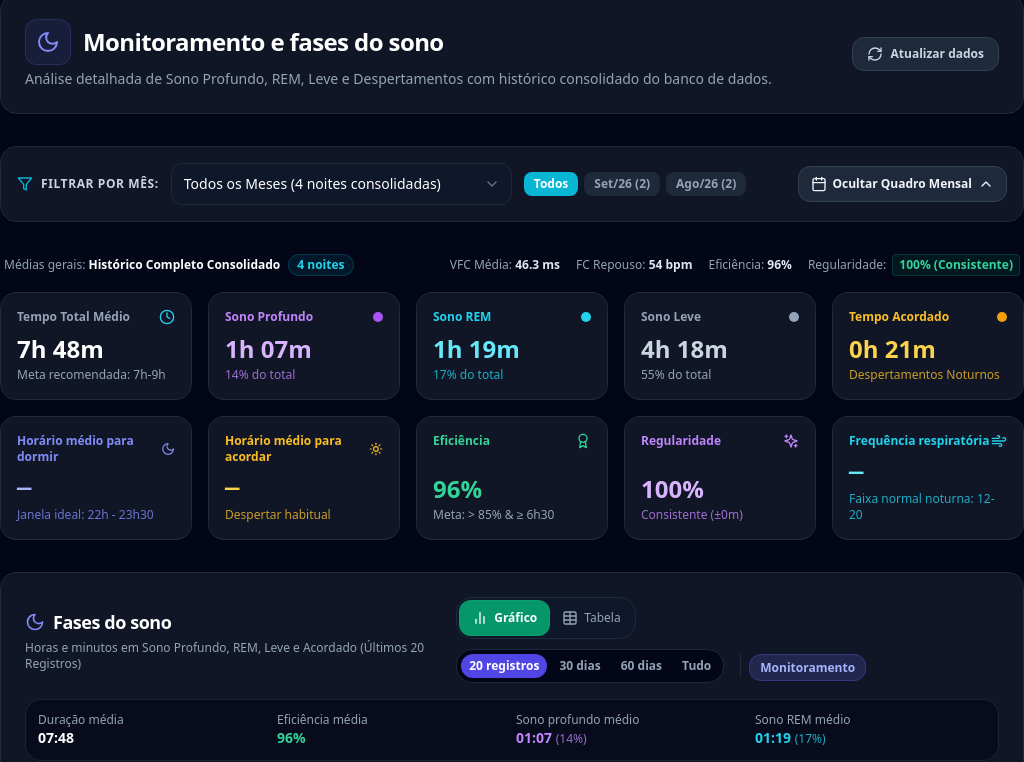
Test case: SleepView › filters by month using the select dropdown and recalculates monthly KPIs
Select "Setembro de 2026 (2 noites • média 8h 20m)" in the dropdown named "Selecionar Mês" at [341, 184], box [171, 163, 512, 205]
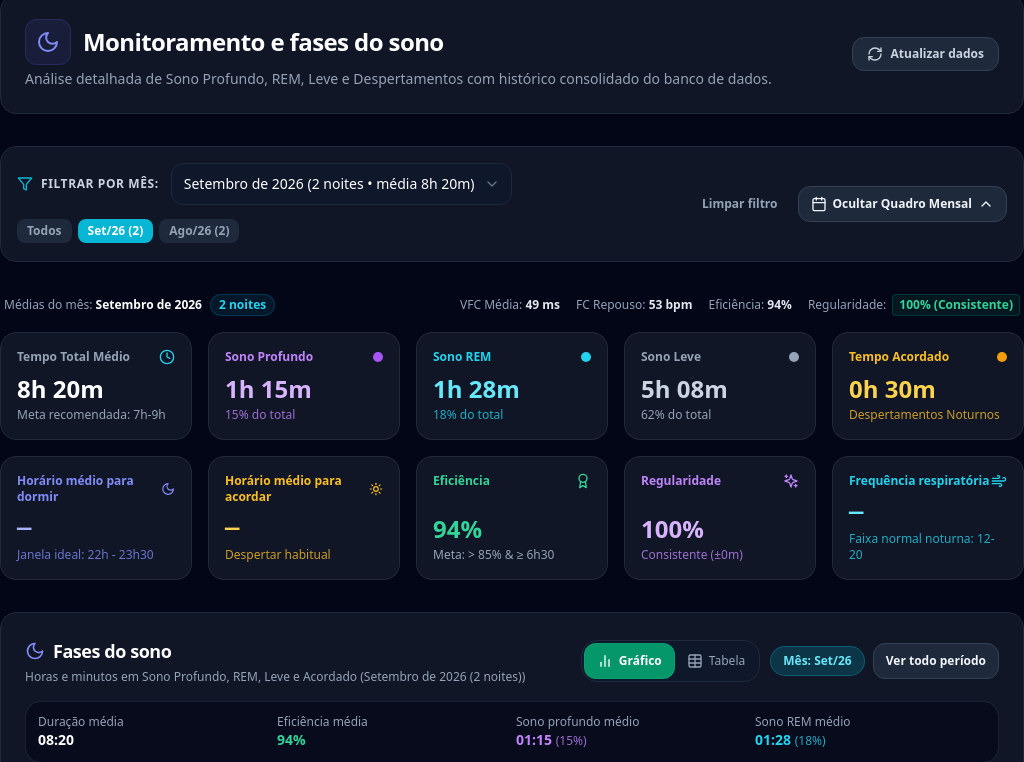
Expected: the text "08/08/2026" is not shown
Expected: the text "Médias do mês:" is shown, [4, 296, 92, 313]
Reset back to All via "Limpar filtro"
Click the button "Limpar filtro" at [740, 204], box [690, 186, 790, 222]
(page scrolled)
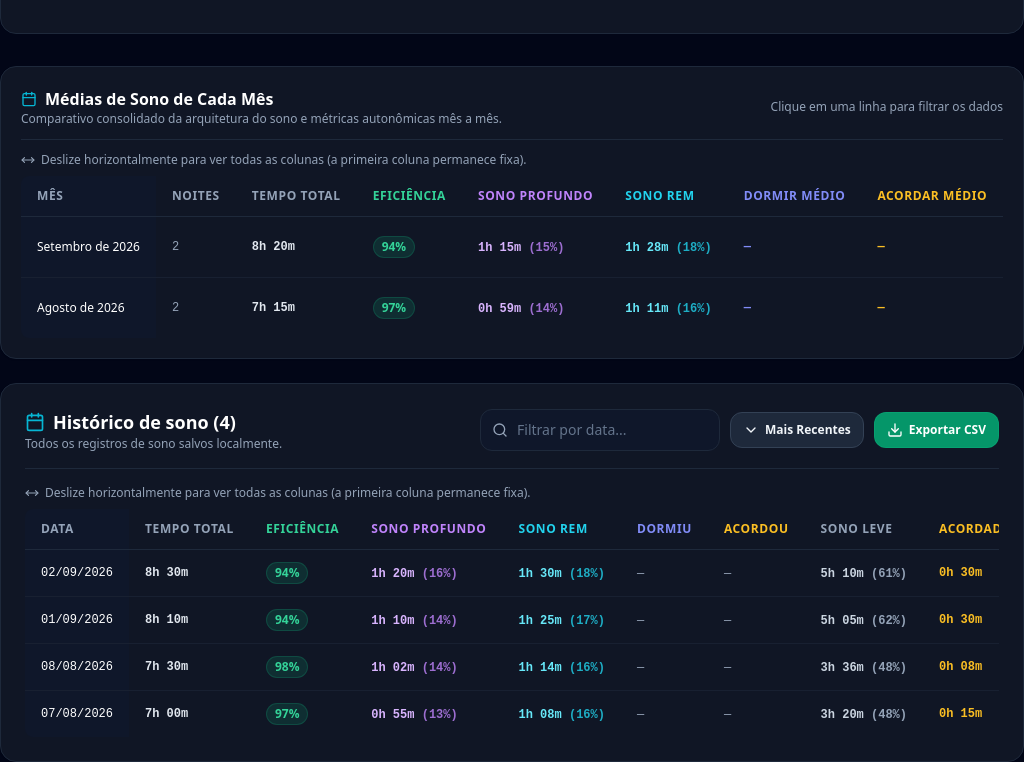
Expected: the heading "Histórico de sono (4)" is shown, [25, 410, 236, 434]
Expected: the column heading "08/08/2026" is shown, [25, 644, 129, 690]
